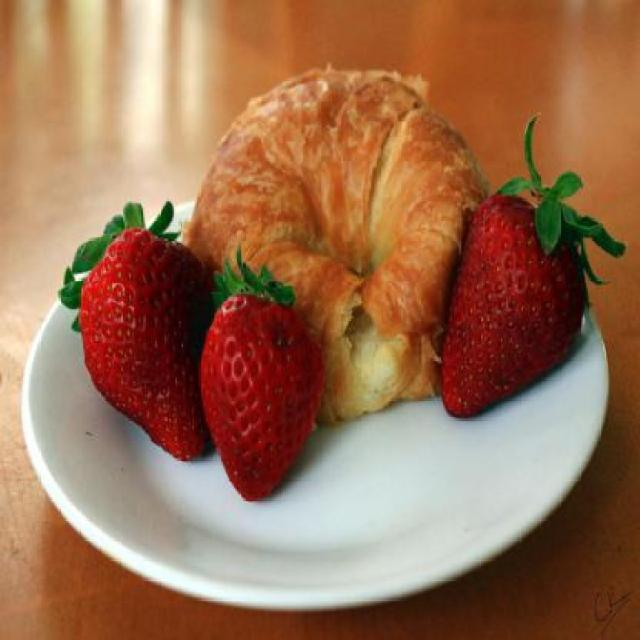Croissant: (184, 65, 496, 427)
